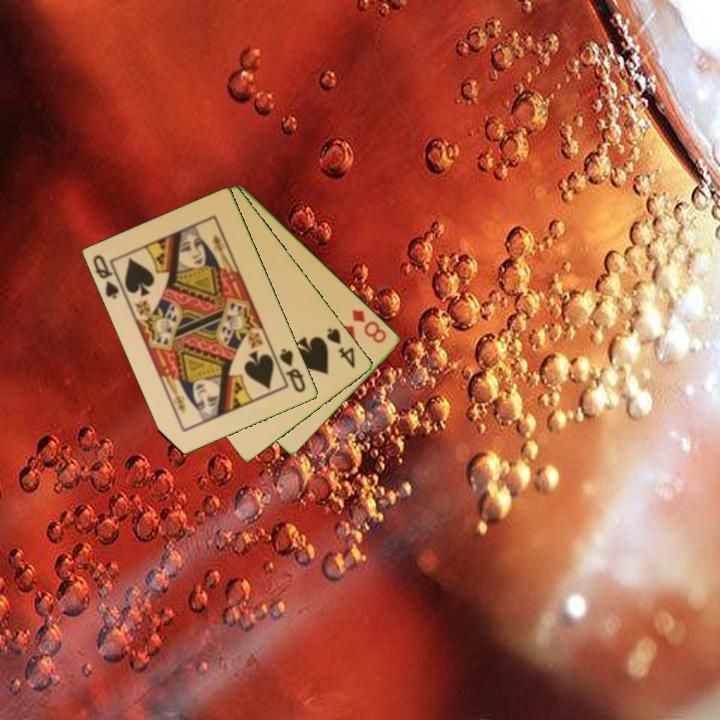4s: (323, 324, 359, 371)
8d: (349, 305, 390, 346)
Qs: (276, 344, 309, 396), (89, 251, 122, 302)
